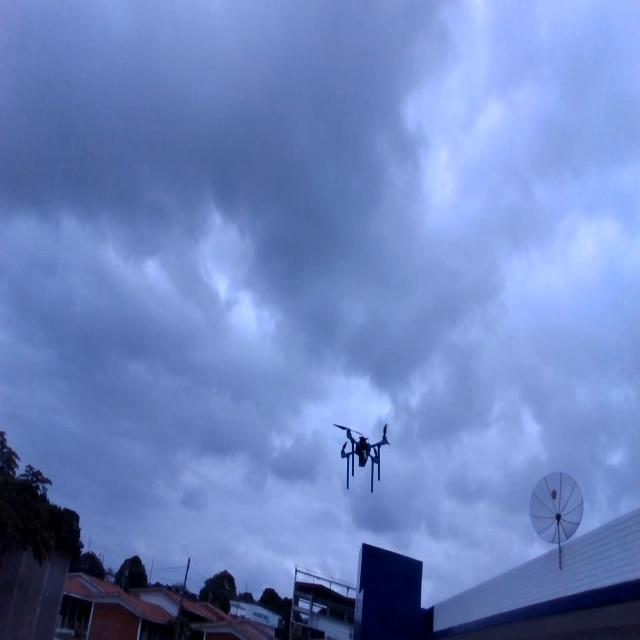-uav-: (331, 410, 390, 500)
